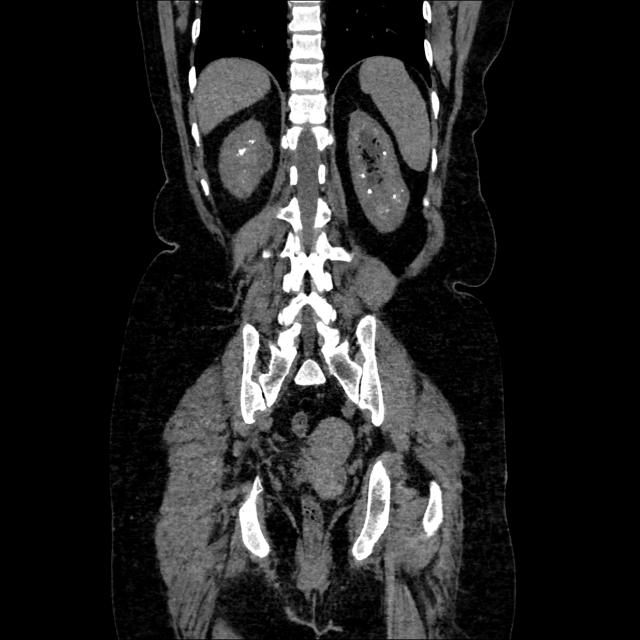kidney: (345, 108, 411, 236), (218, 116, 275, 201)
stone: (238, 147, 248, 157), (248, 138, 258, 144), (367, 188, 373, 195), (360, 172, 366, 178), (382, 150, 387, 156), (392, 193, 397, 199), (401, 189, 404, 192)
